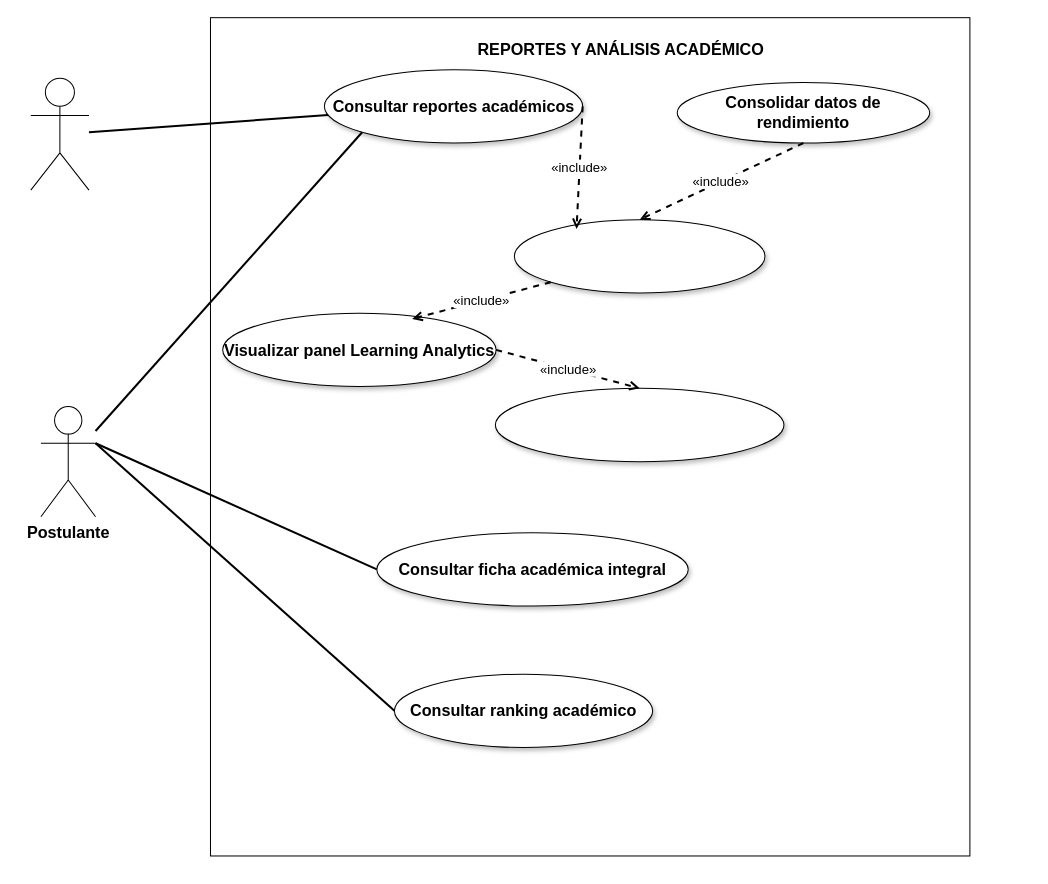
This 1048x884 diagram has some shape labels left out. Here are the shapes that lost their labels. From the top down, the centre of each, then its label:
At (x=59, y=133): "Tutor Académico".
At (x=640, y=257): "Visualizar indicadores de desempeño".
At (x=640, y=426): "Analizar riesgo académico".
